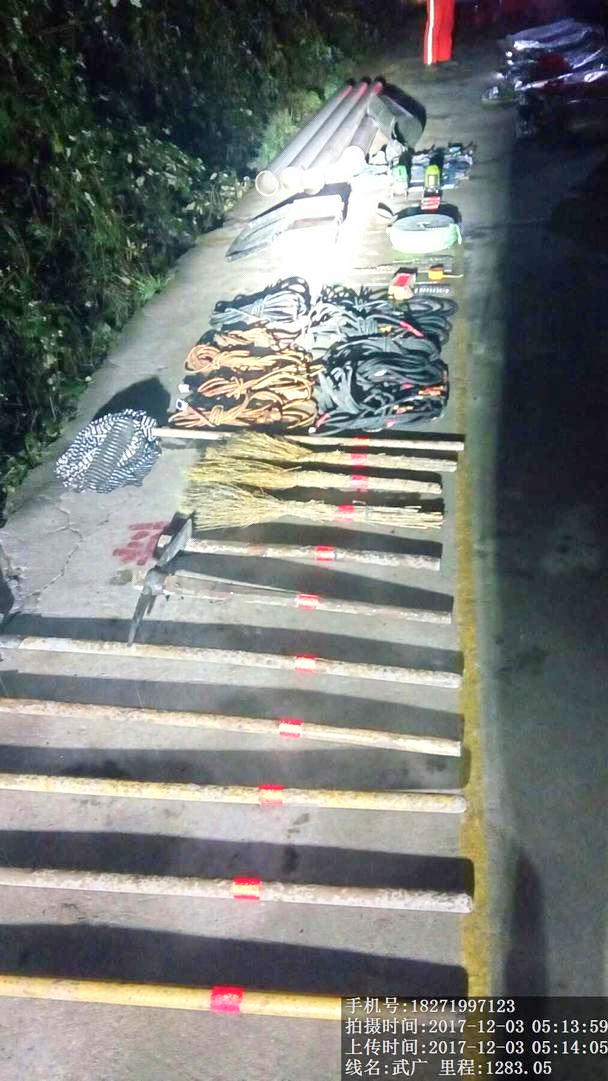SB: (180, 476, 449, 536), (216, 432, 459, 479)
